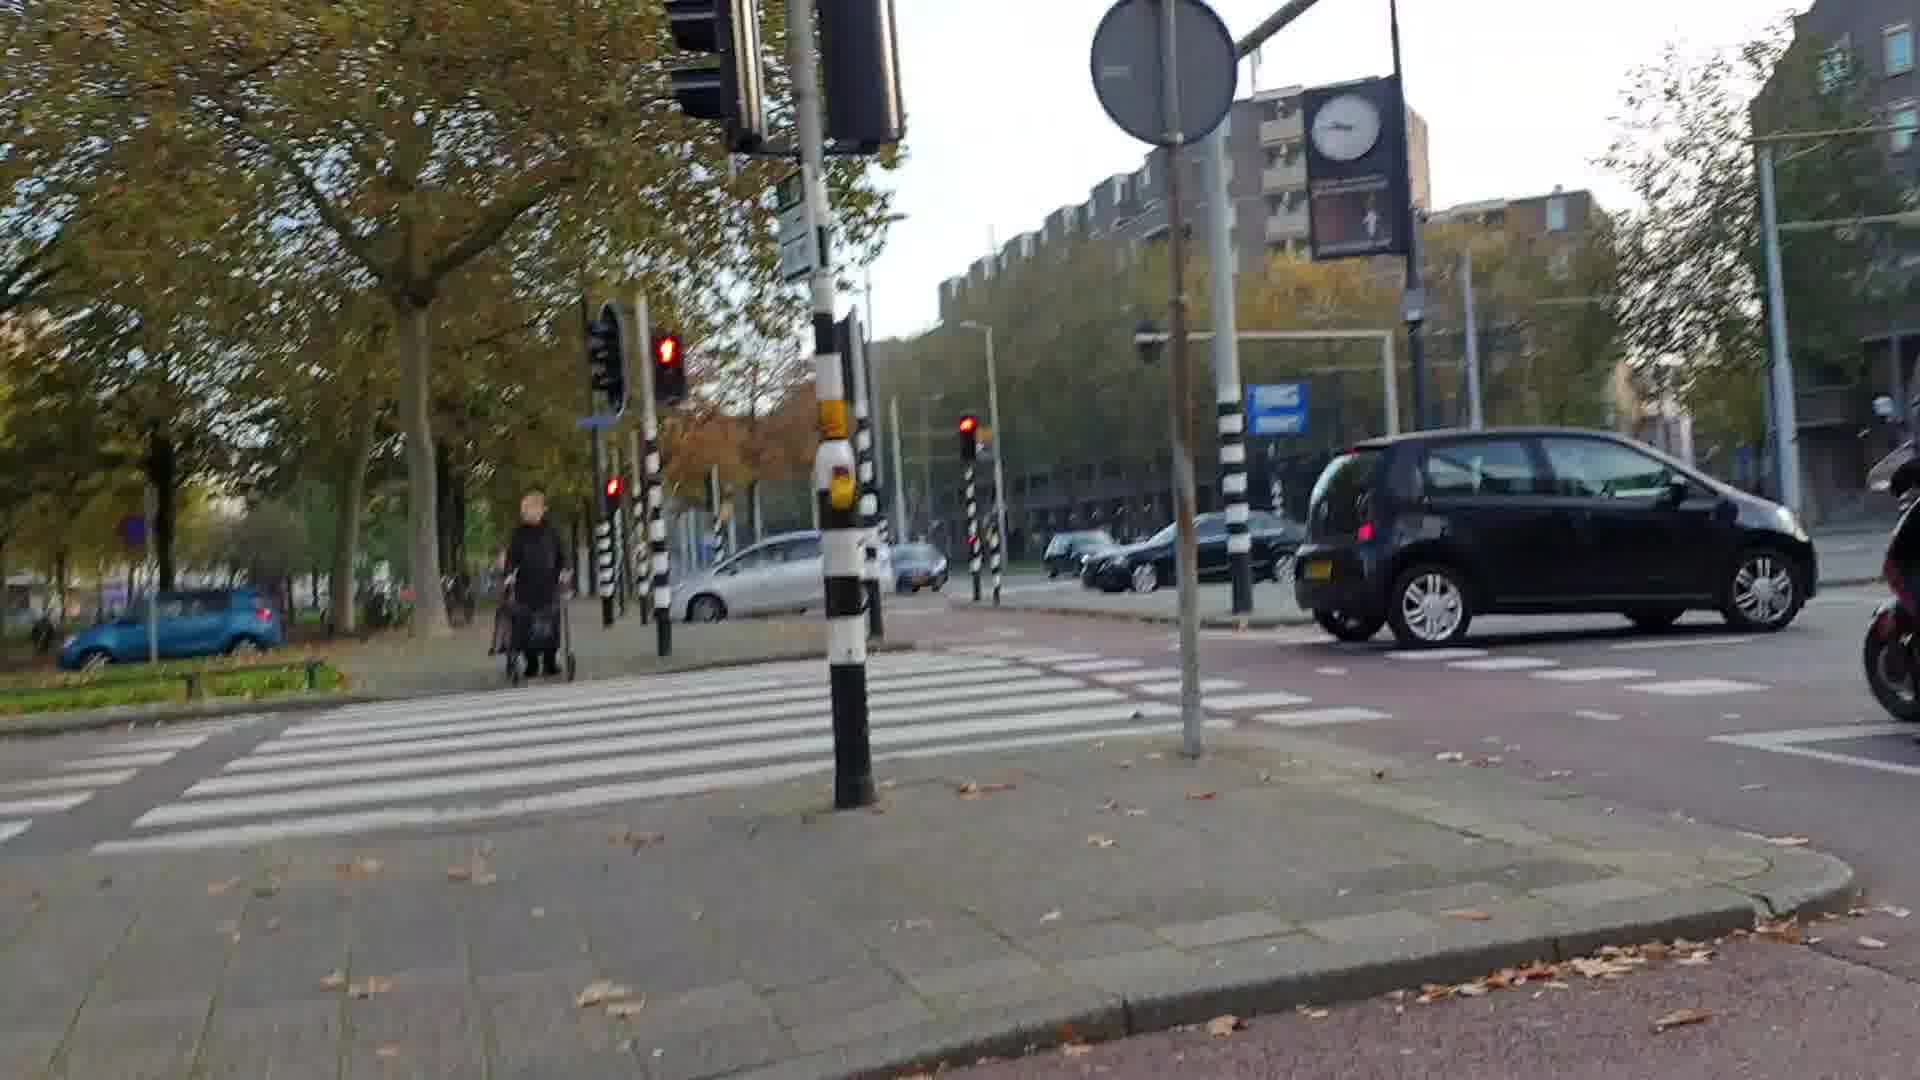car: (1300, 433, 1816, 636), (1079, 509, 1296, 582)
